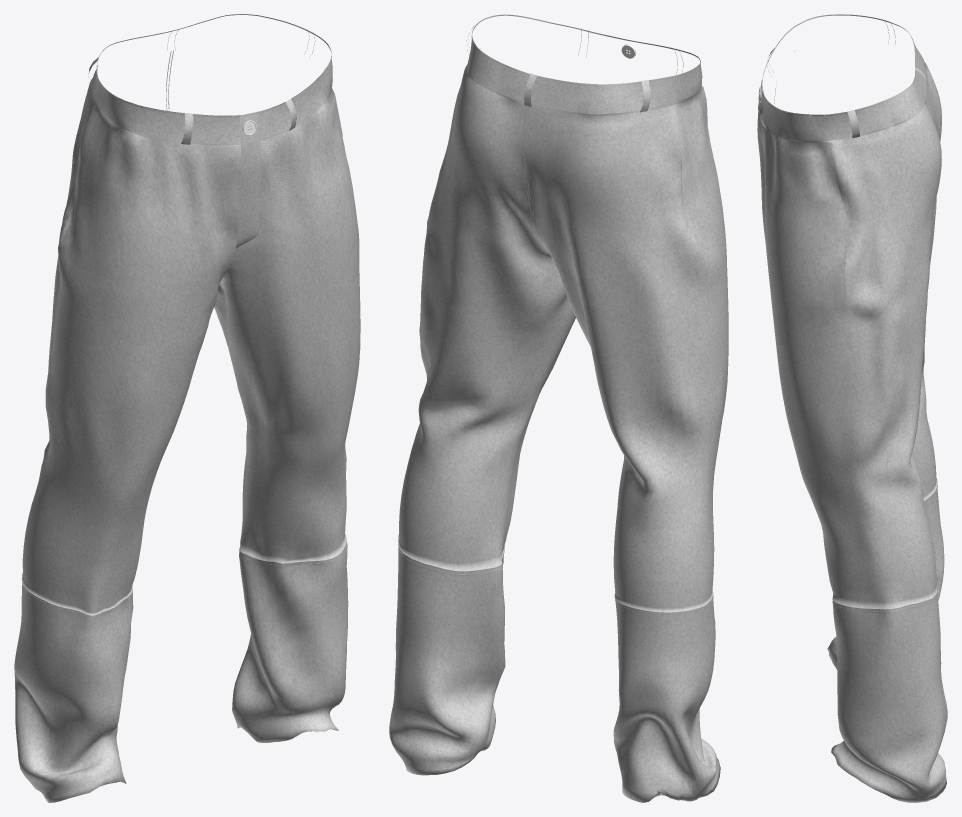
The model's file is Pants_Main.glb.
3 views of the same model, side by side, from view 1: azimuth 30°, elevation 25°; view 2: azimuth 150°, elevation 25°; view 3: azimuth 270°, elevation 25° (orthographic). The views are drawn at different scales.
Visible parts, largest first — view 1: Pants_Main1, Rope1; view 2: Pants_Main1, Rope1; view 3: Pants_Main1, Rope1.
Boxes of the visible parts, x1,y1,x2,y2 form: Pants_Main1: (14,53,360,802); Rope1: (21,14,347,617); Pants_Main1: (389,28,728,802); Rope1: (398,14,713,615); Pants_Main1: (757,31,947,802); Rope1: (757,14,937,613).
Size of the model in its own units: 0.8238 by 1.83 by 0.4619.
3 materials, 3 textured.
